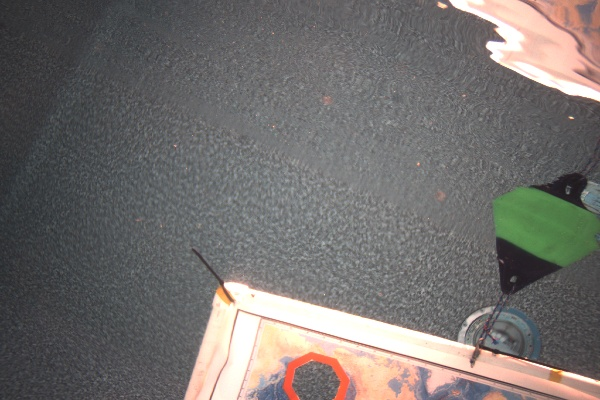torpille: (182, 282, 600, 400)
torpille_target: (284, 350, 348, 400)
